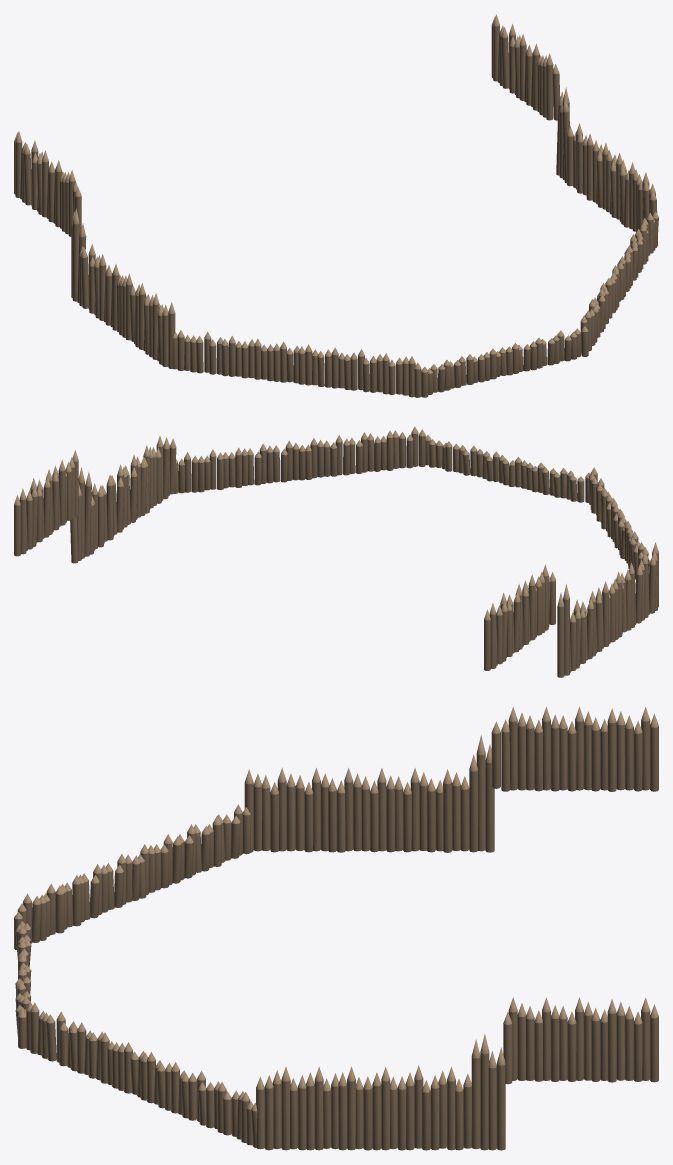
Rendered from Surrounding_Wall.fbx.
The picture shows the model from 3 angles, top to bottom: view 1: azimuth 30°, elevation 25°; view 2: azimuth 150°, elevation 25°; view 3: azimuth 270°, elevation 25°; orthographic projection. The views are drawn at different scales.
Parts seen in each view (by area): view 1: no part large enough to name; view 2: Cylinder.001, Cylinder.005, Cylinder.081, Cylinder.063; view 3: Cylinder.015 (×3), Cylinder.057 (×2), Cylinder.079, Cylinder.081, Cylinder.077, Cylinder.001, Cylinder.005, Cylinder.007, Cylinder.074, Cylinder.039, Cylinder.055.
Part boxes in pixels (left/top/right/bottom): Cylinder.001: left=557, top=606, right=564, bottom=677; Cylinder.005: left=563, top=598, right=569, bottom=675; Cylinder.081: left=85, top=485, right=91, bottom=556; Cylinder.063: left=106, top=484, right=113, bottom=540; Cylinder.015 (×3): left=443, top=722, right=616, bottom=1082; Cylinder.057 (×2): left=286, top=786, right=381, bottom=1150; Cylinder.079: left=480, top=1052, right=489, bottom=1150; Cylinder.081: left=471, top=1057, right=480, bottom=1149; Cylinder.077: left=496, top=1064, right=505, bottom=1150; Cylinder.001: left=485, top=761, right=494, bottom=852; Cylinder.005: left=476, top=754, right=485, bottom=851; Cylinder.007: left=469, top=770, right=478, bottom=852; Cylinder.074: left=488, top=1067, right=496, bottom=1150; Cylinder.039: left=314, top=1080, right=323, bottom=1150; Cylinder.055: left=381, top=1080, right=390, bottom=1150.
Size of the model in its own units: 20.48 by 4.65 by 18.3.
